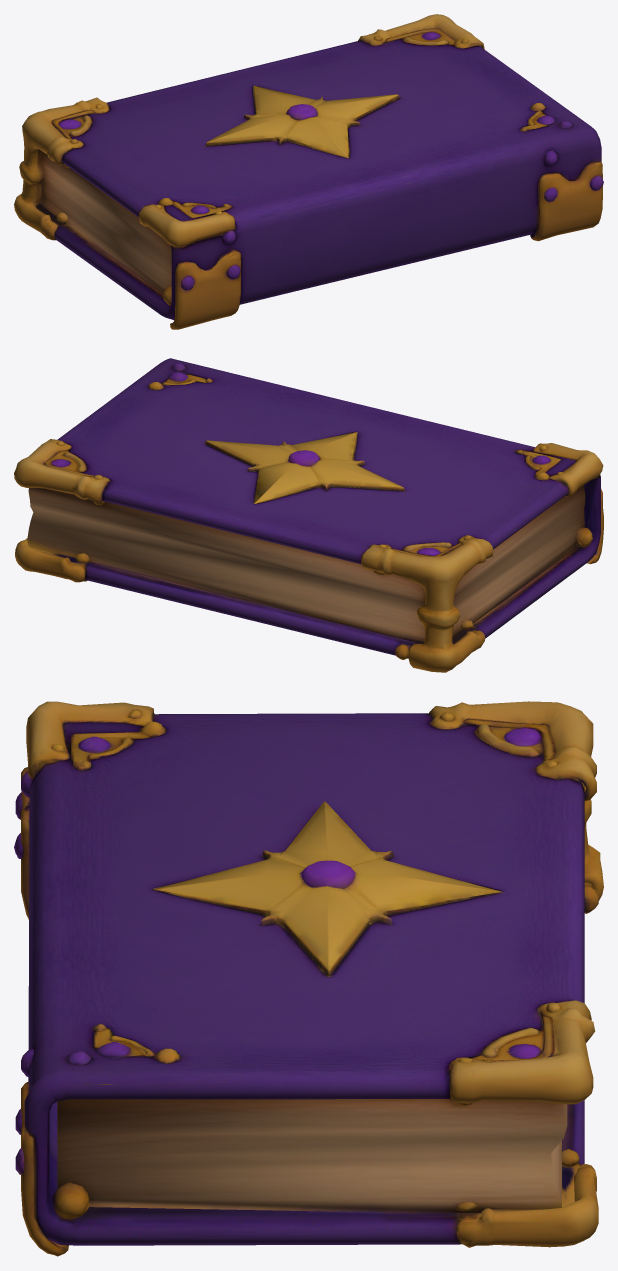
Rendered from r33-spellbook.glb.
The picture shows the model from 3 angles, top to bottom: view 1: azimuth 30°, elevation 25°; view 2: azimuth 150°, elevation 25°; view 3: azimuth 270°, elevation 25°; orthographic projection. The views are drawn at different scales.
Parts seen in each view (by area): view 1: tripo_node_4bd49fa9-957b-4294-bc4f-5108cc4d9e0b; view 2: tripo_node_4bd49fa9-957b-4294-bc4f-5108cc4d9e0b; view 3: tripo_node_4bd49fa9-957b-4294-bc4f-5108cc4d9e0b.
Part boxes in pixels (x1,y1,x2,y2): tripo_node_4bd49fa9-957b-4294-bc4f-5108cc4d9e0b: [14, 14, 603, 329]; tripo_node_4bd49fa9-957b-4294-bc4f-5108cc4d9e0b: [14, 358, 603, 672]; tripo_node_4bd49fa9-957b-4294-bc4f-5108cc4d9e0b: [14, 701, 603, 1256].
Size of the model in its own units: 0.998 by 0.252 by 0.6582.
Materials: 1 (1 with a texture image).
